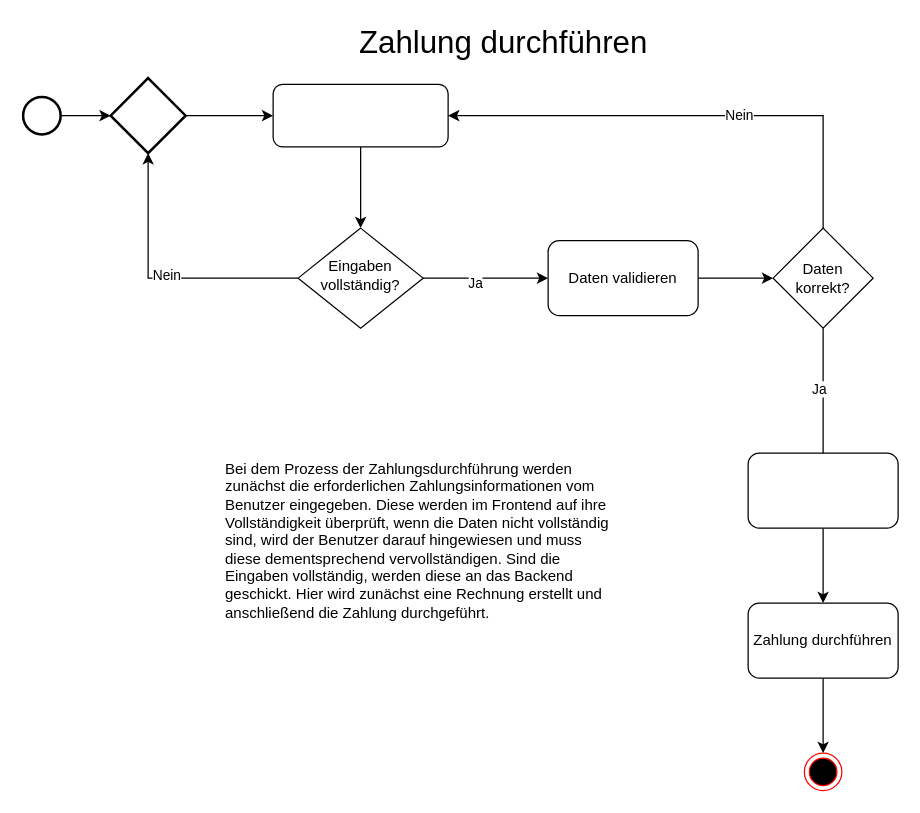
The diagram is 920 pixels wide and 813 high, and some of its shapes have lost their labels. The shapes that lost their labels are listed below. From the top down, each one's centre as x and y in pixels, then its label:
(360,115): Zahlungsinformationen eingeben
(822,490): Rechnung erstellen
